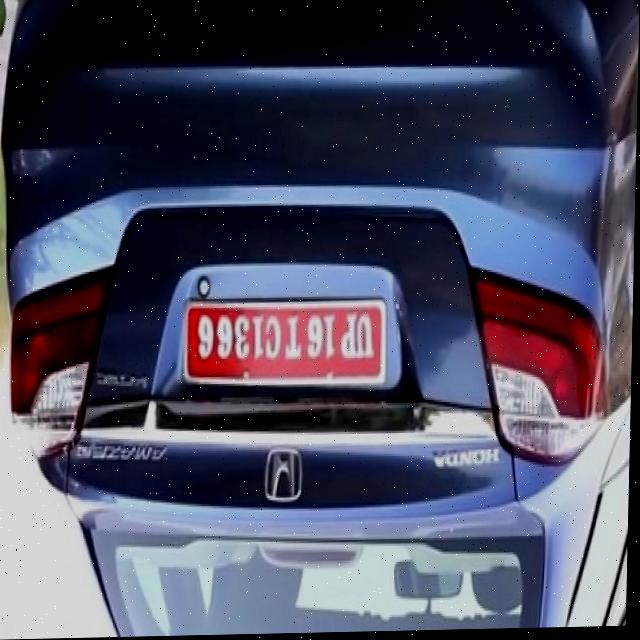plate: (186, 299, 386, 392)
